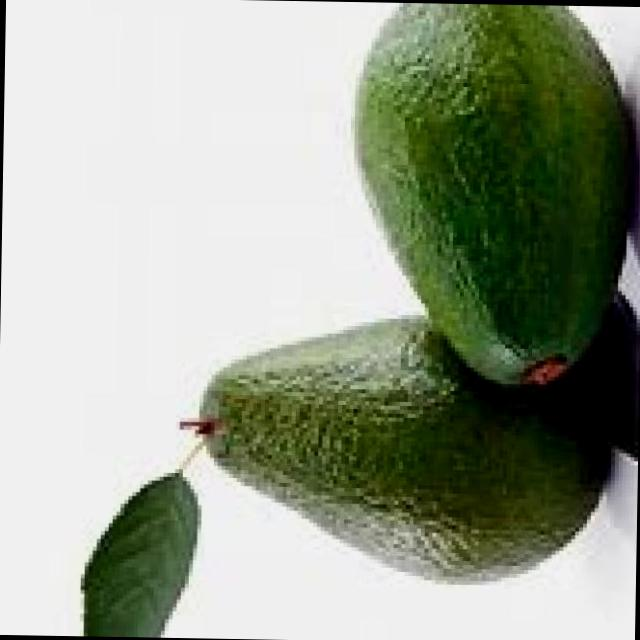avocado: (188, 308, 617, 592), (345, 1, 634, 388)
